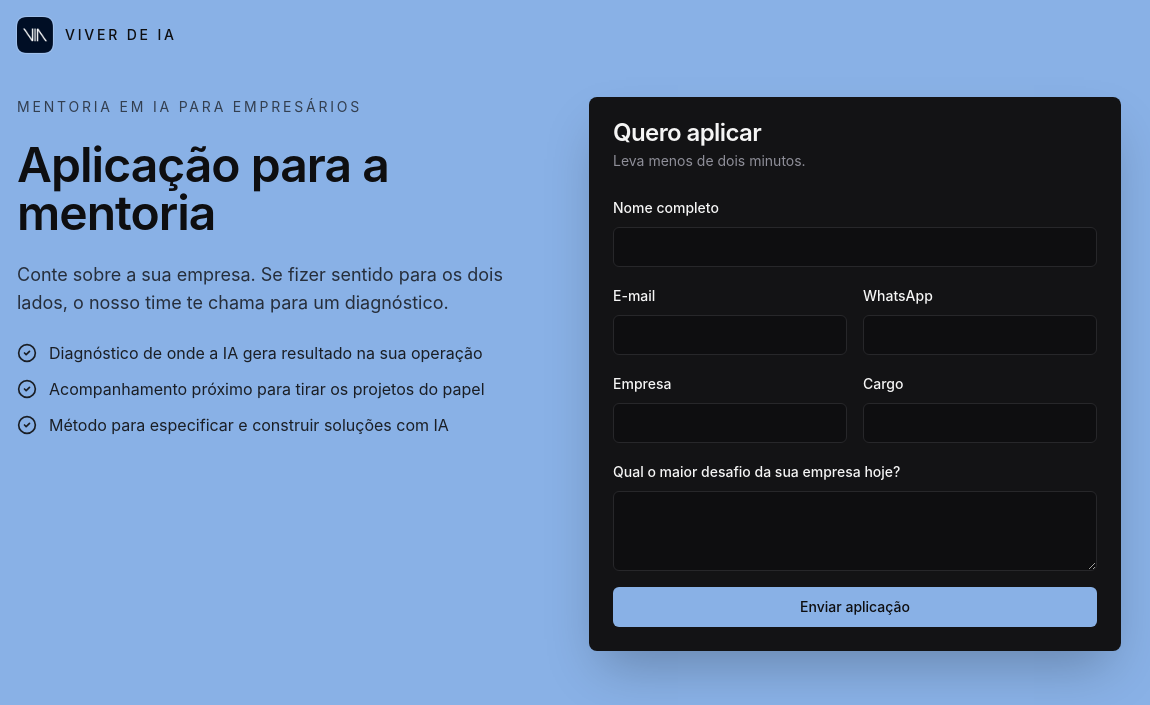
Test case: Application (landing page) › sends the application to the database and thanks the lead
Type "Helena Martins" into the field labelled "Nome completo".
click(855, 247); type("Helena Martins")  # box [613, 227, 1097, 267]
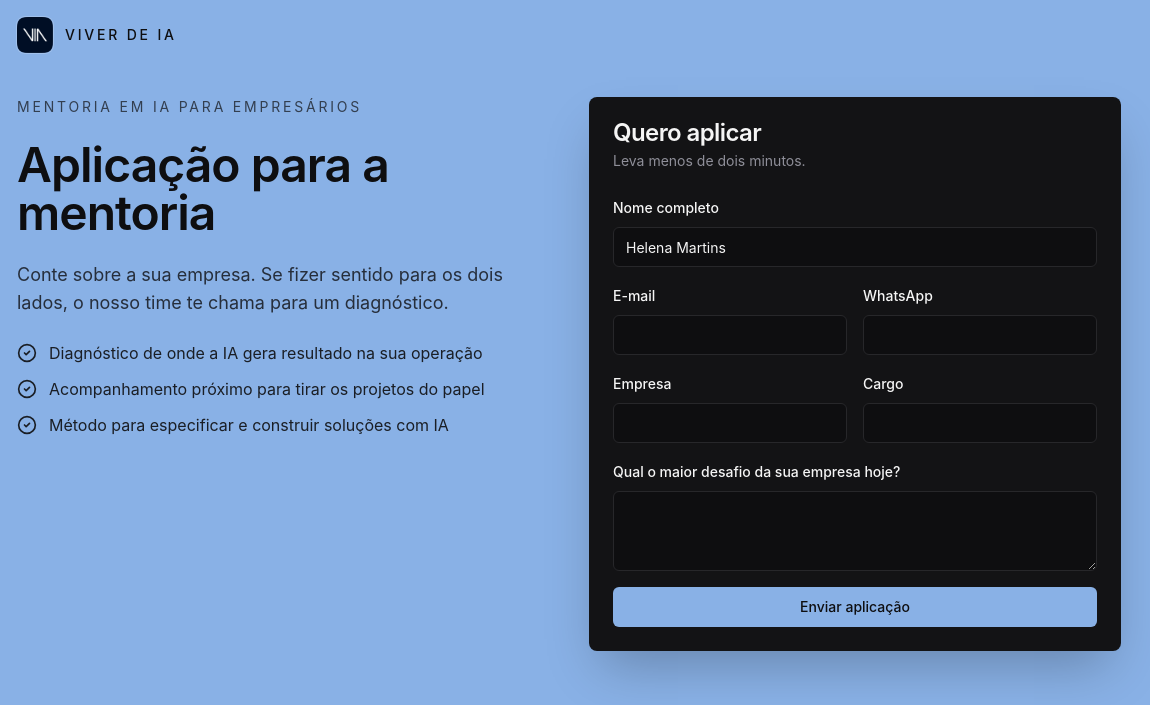
Type "helena@exemplo.com.br" into the field labelled "E-mail".
click(730, 335); type("helena@exemplo.com.br")  # box [613, 315, 847, 355]
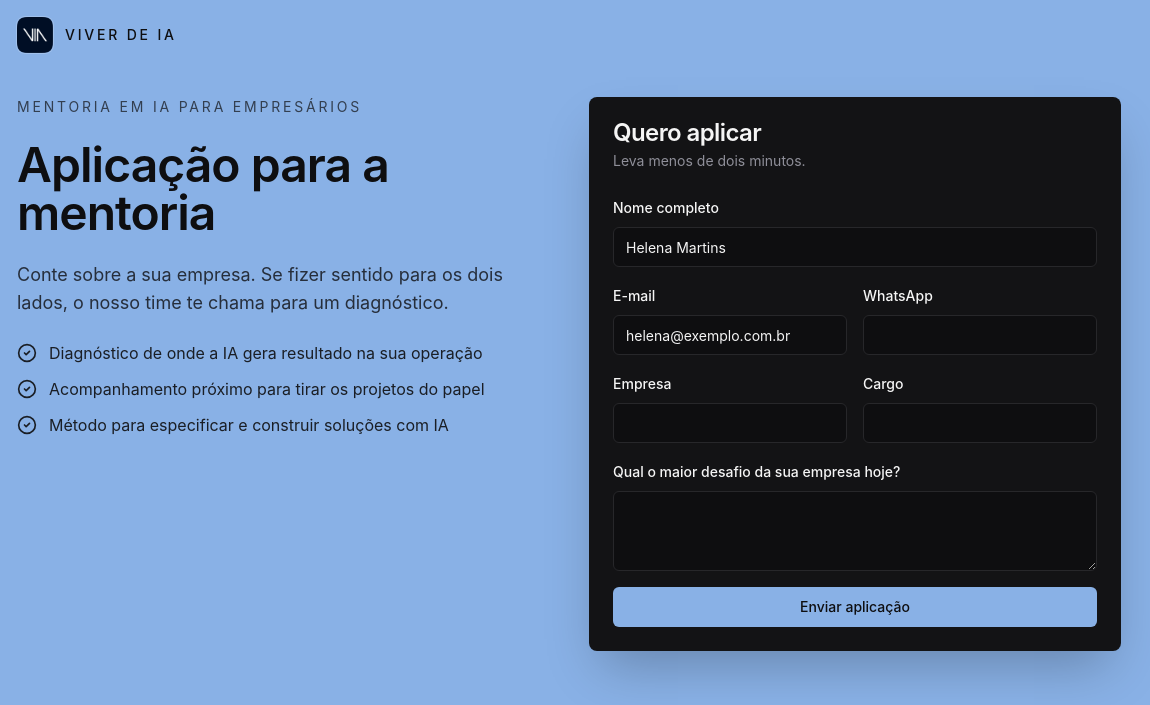
Type "Laboratório Vida Plena" into the field labelled "Empresa".
click(730, 423); type("Laboratório Vida Plena")  # box [613, 403, 847, 443]
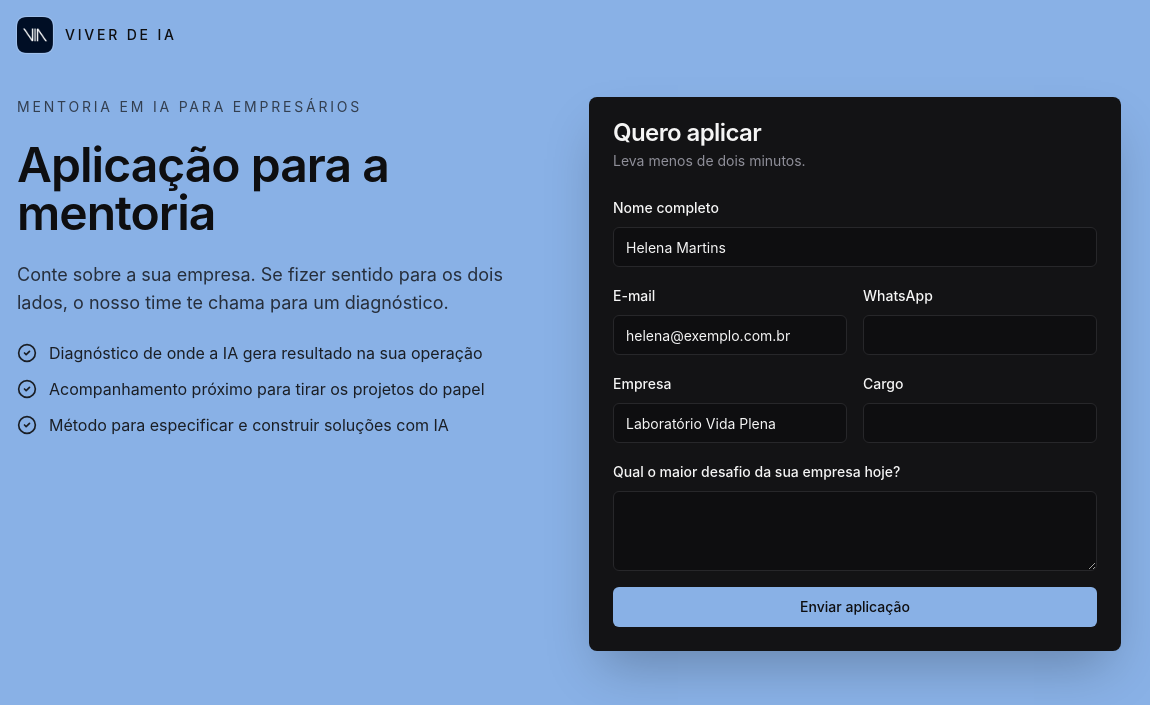
Click the button "Enviar aplicação".
click(855, 607)  # box [613, 587, 1097, 627]
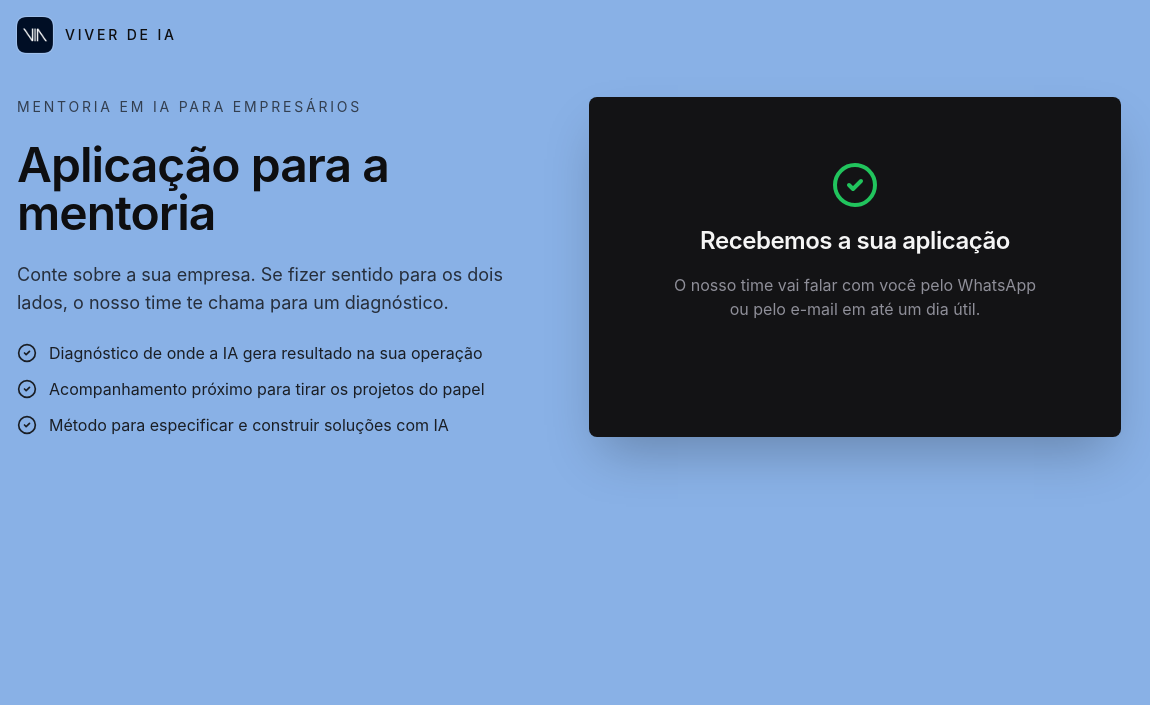
Result: the heading "Recebemos a sua aplicação" is shown at [700, 225, 1010, 257]
